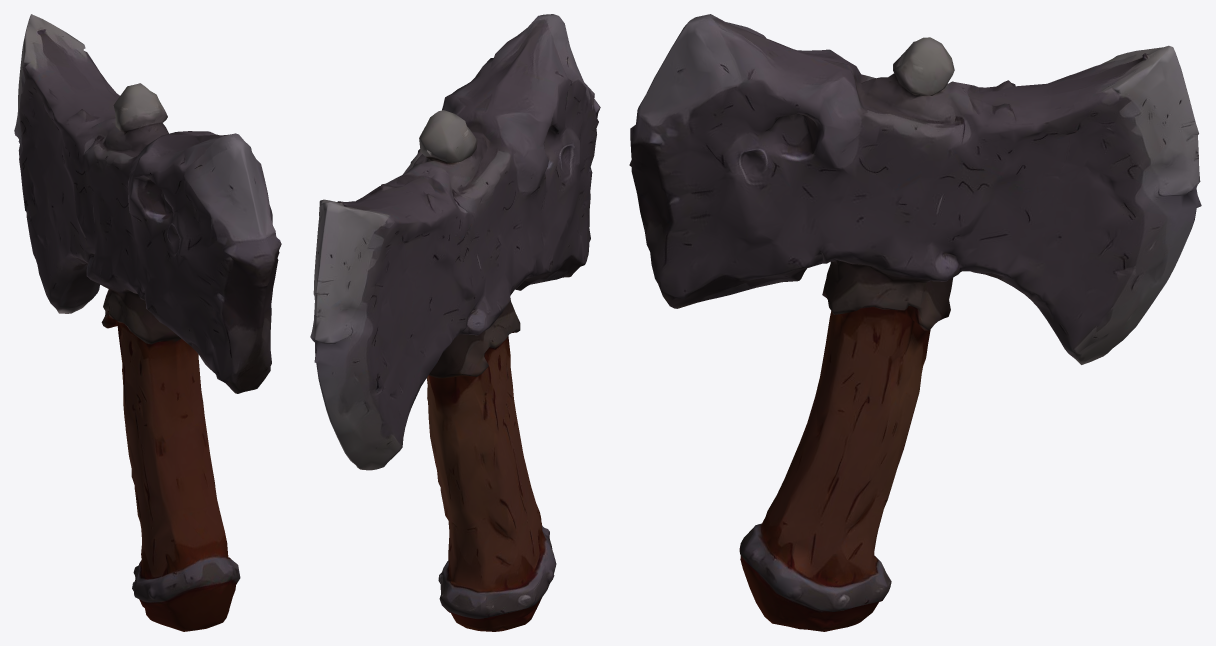
The model's file is axe-headsman.glb.
The picture shows the model from 3 angles, left to right: view 1: azimuth 30°, elevation 25°; view 2: azimuth 150°, elevation 25°; view 3: azimuth 270°, elevation 25°; orthographic projection. The views are drawn at different scales.
Visible parts, largest first — view 1: tripo_node_bc872b35-8916-4f8c-b3f8-d5e68d7317fa; view 2: tripo_node_bc872b35-8916-4f8c-b3f8-d5e68d7317fa; view 3: tripo_node_bc872b35-8916-4f8c-b3f8-d5e68d7317fa.
Boxes of the visible parts, x1,y1,x2,y2 form: tripo_node_bc872b35-8916-4f8c-b3f8-d5e68d7317fa: [14, 14, 281, 631]; tripo_node_bc872b35-8916-4f8c-b3f8-d5e68d7317fa: [310, 14, 600, 631]; tripo_node_bc872b35-8916-4f8c-b3f8-d5e68d7317fa: [629, 14, 1201, 631].
Size of the model in its own units: 0.2095 by 0.9999 by 0.8684.
Materials: 1 (1 with a texture image).
